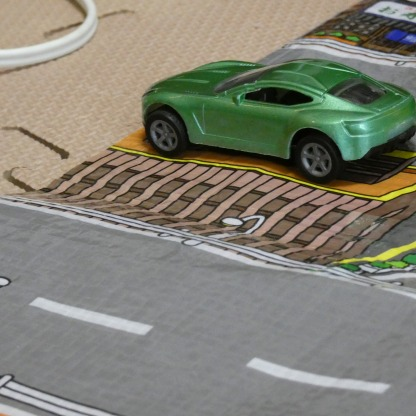car: (142, 57, 416, 182)
